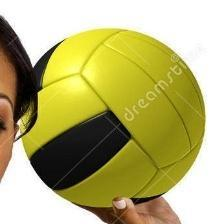Sports-Ball: (17, 38, 202, 210)
